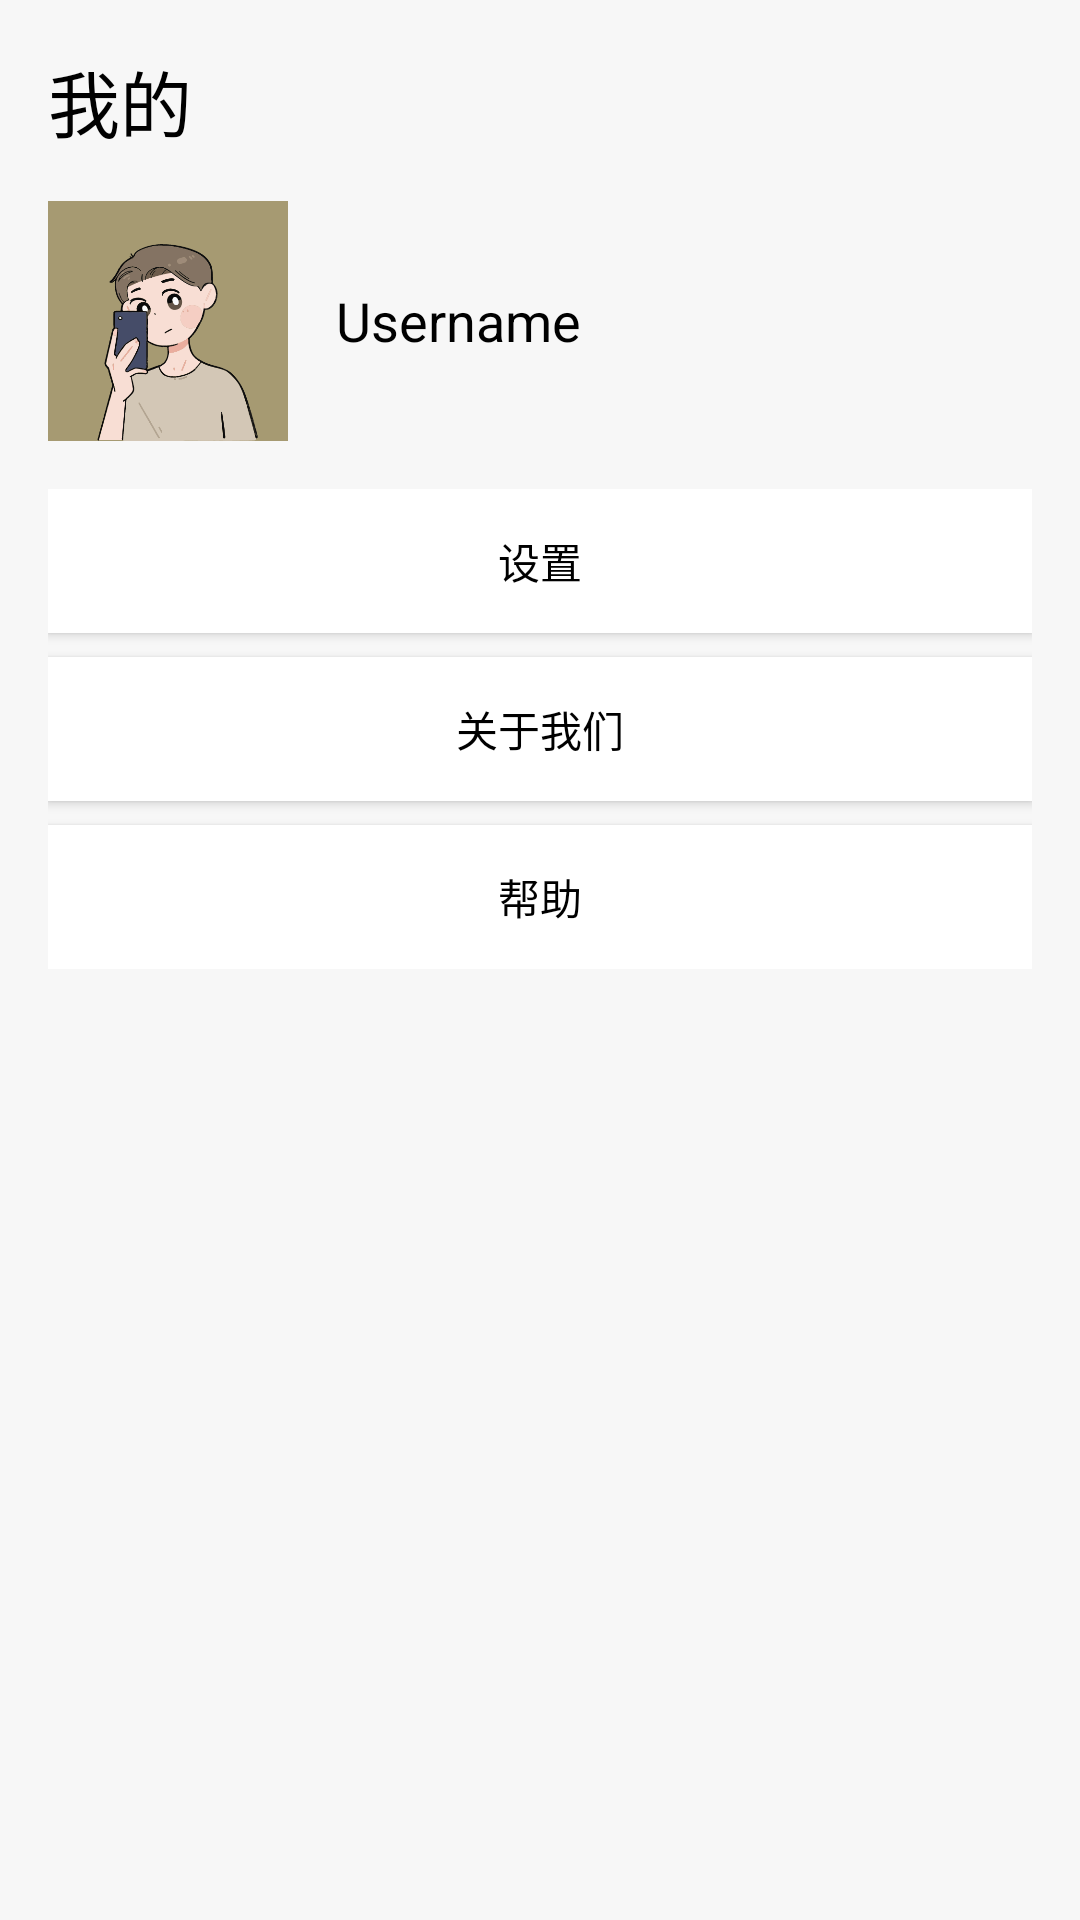

Locate icon controls on the screen. Image size 1080*1920, boxes as bbox=[x1, y1, x2, y2].
photo: bbox=[48, 201, 288, 441]
